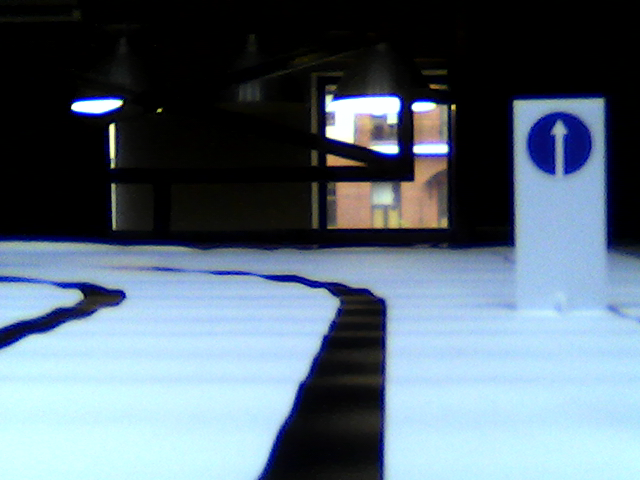forw: (528, 112, 592, 182)
